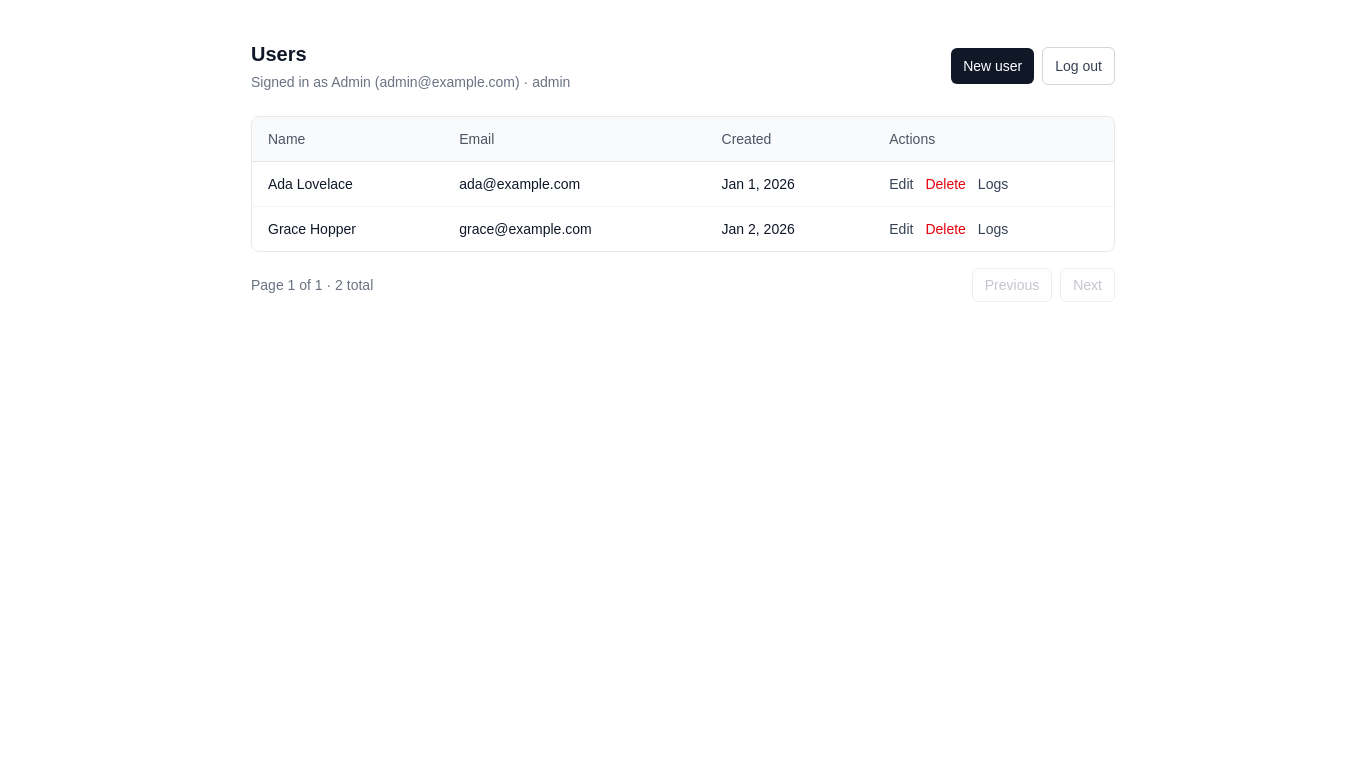
Scenario: admin can open the log viewer for a row
Expected: the text "Ada Lovelace" is shown, [252, 162, 443, 206]
Click the button "Logs" in the row of "Ada Lovelace". click: (993, 184)
box: [978, 174, 1008, 194]
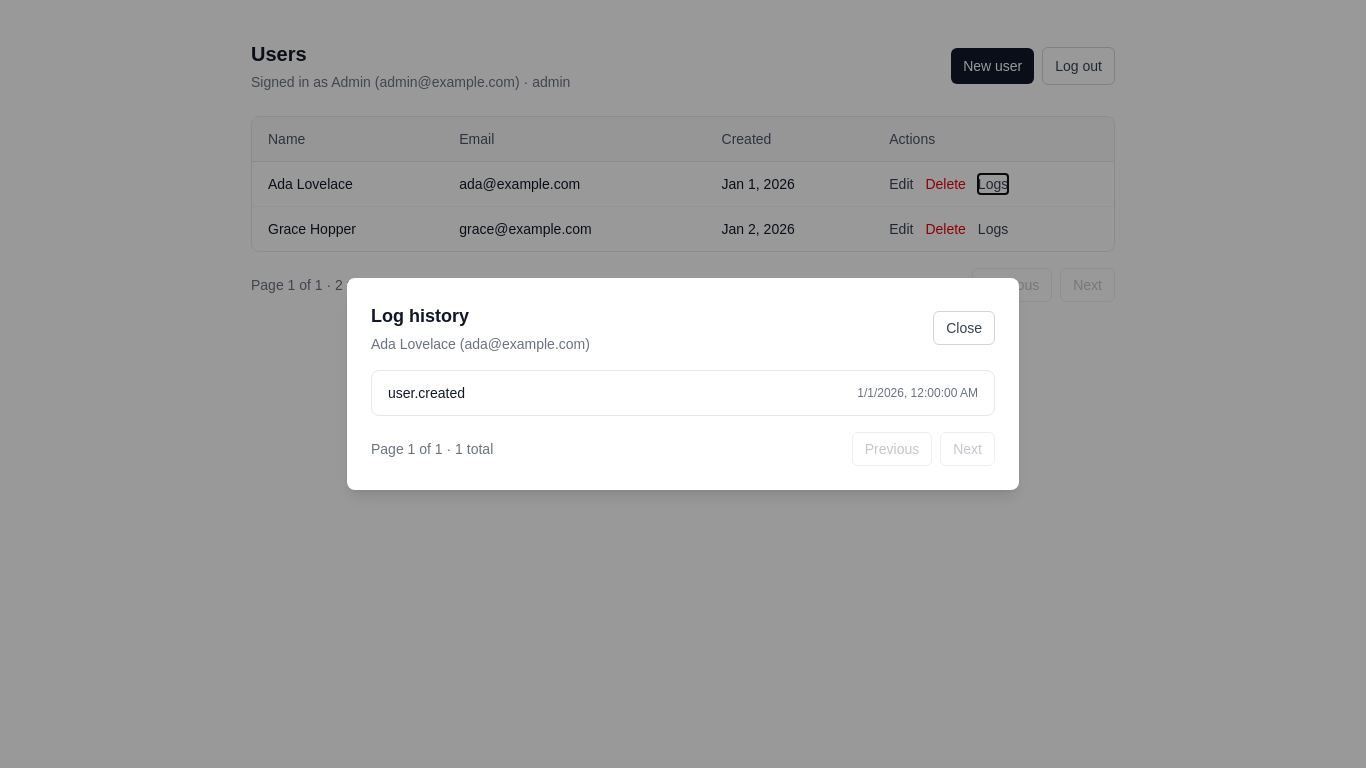
Now the heading "Log history" is shown, box [371, 306, 469, 326]
Now the text "user.created" is shown, box [388, 383, 465, 403]
